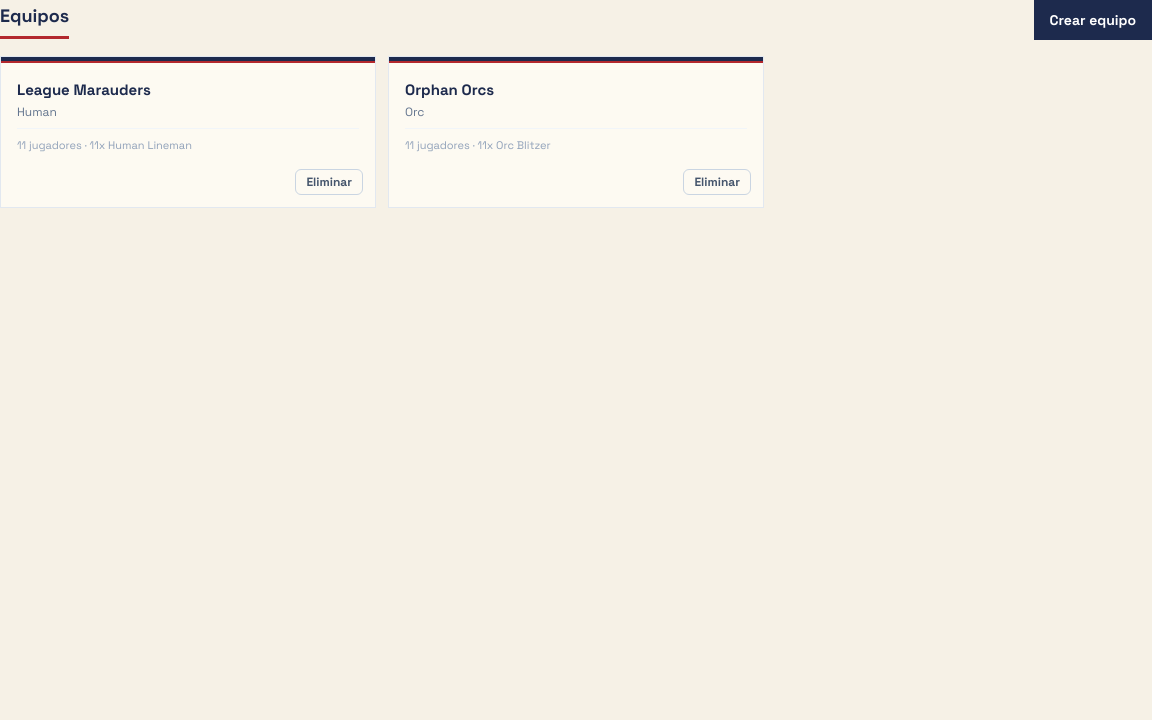
Test case: TeamList — archive-guard (409) surface › still removes an unassigned team normally when the API allows delete
Expected: the heading "Orphan Orcs" is shown, [405, 80, 494, 99]
Click the button with aria-label "Eliminar Orphan Orcs": [717, 182] box [683, 169, 751, 195]
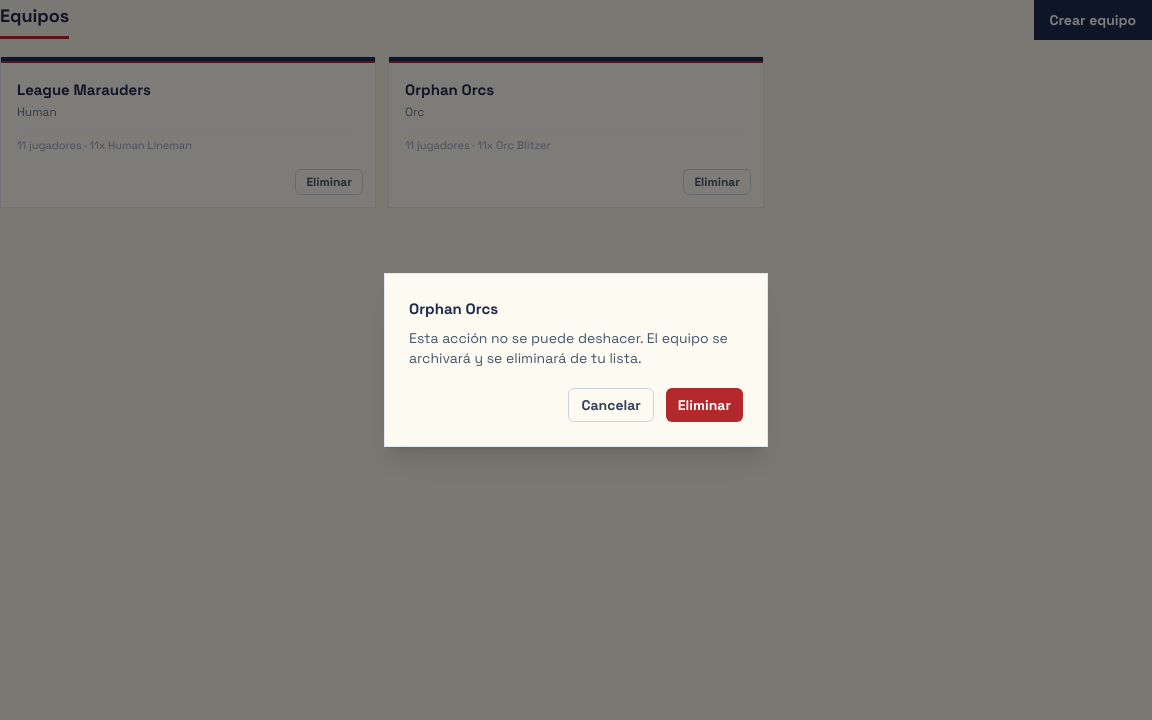
Click the button "Eliminar": [704, 405] box [666, 388, 743, 422]
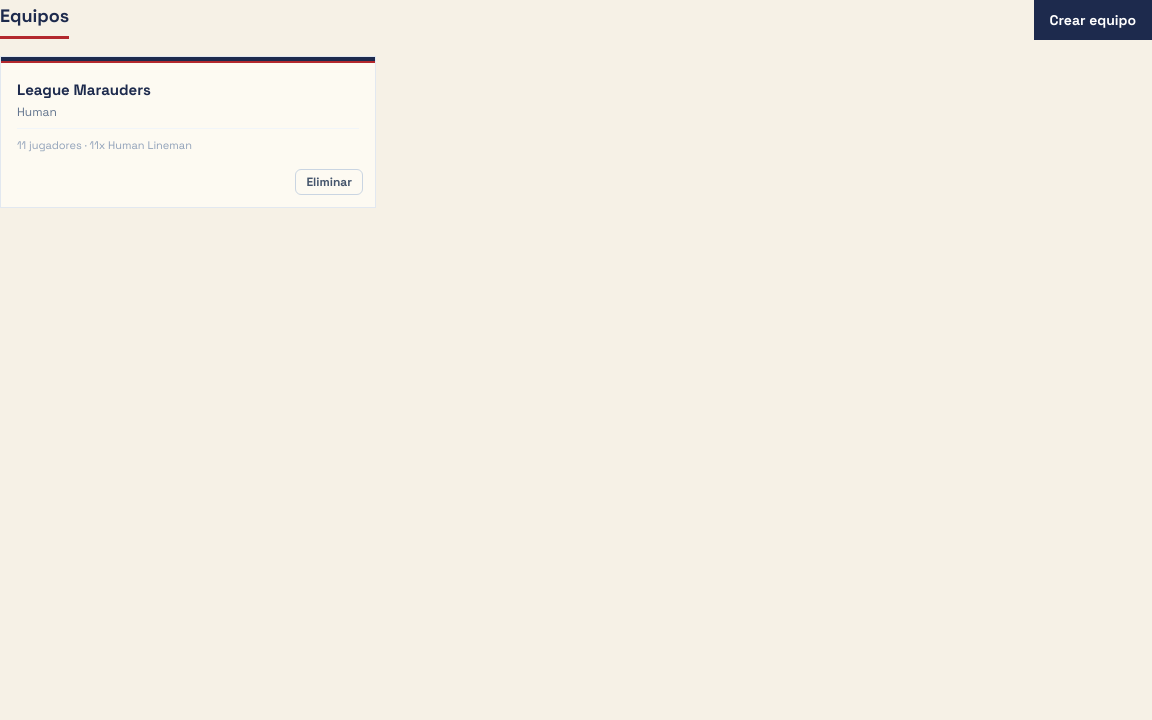
Expected: the link "Orphan Orcs" is gone
Expected: the dialog is gone
